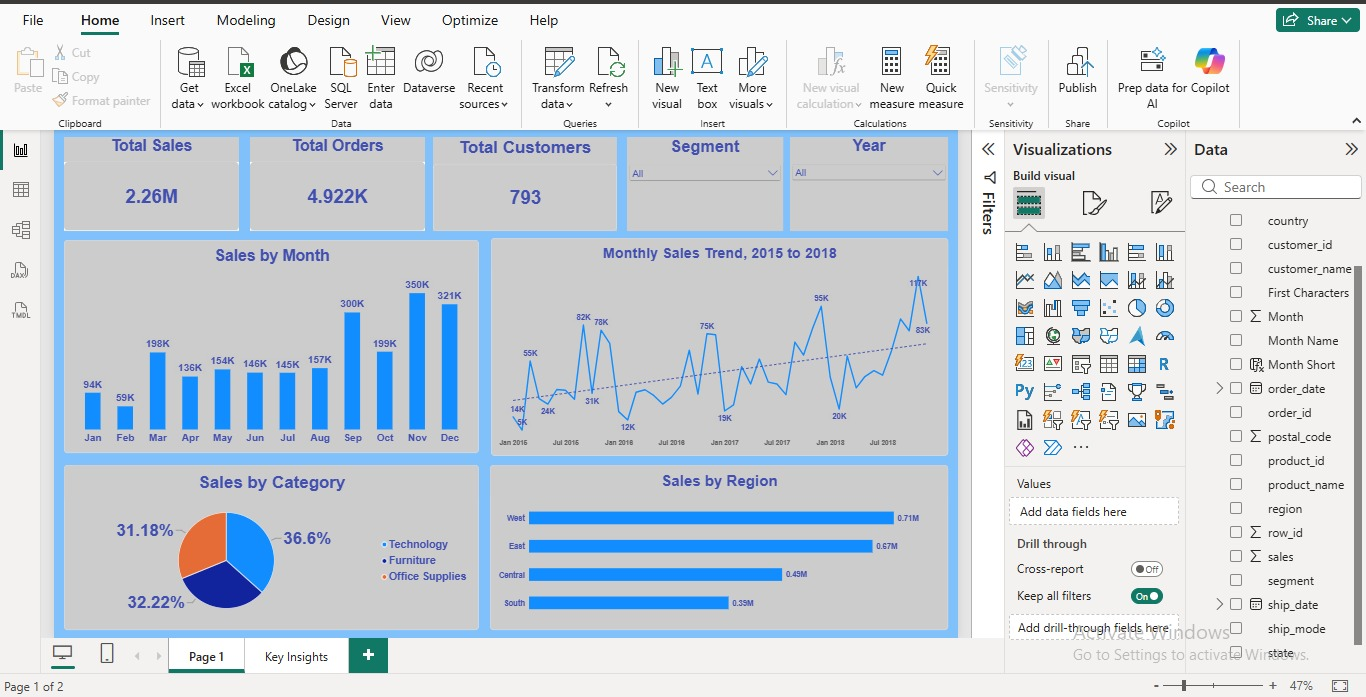

Layout of this report page (visuals, bound fields, positions):
{"tool":"powerbi","page":{"name":"Page 1","canvas":[1920,1080],"ordinal":0},"visuals":[{"type":"cardVisual","title":"Total Sales","fields":{"Data":["Sum(Superstore_clean.sales)"]},"box":[21.3,14.9,372,199.8],"z":0},{"type":"cardVisual","title":"Total Orders","fields":{"Data":["Count(Superstore_clean.order_id)"]},"box":[416.7,14.9,372,199.8],"z":1},{"type":"cardVisual","title":"Total Customers","fields":{"Data":["Count(Superstore_clean.customer_id)"]},"box":[805.7,14.9,391.2,199.8],"z":2},{"type":"clusteredColumnChart","title":"Sales by Month","fields":{"Category":["Superstore_clean.First Characters"],"Y":["Sum(Superstore_clean.sales)"]},"box":[21.3,233.9,882.3,452.8],"z":3},{"type":"lineChart","title":"Monthly Sales Trend, 2015 to 2018","fields":{"Category":["Superstore_clean.order_date.Variation.Date Hierarchy.Year","Superstore_clean.order_date.Variation.Date Hierarchy.Month"],"Y":["Sum(Superstore_clean.sales)"]},"box":[929.1,229.6,971.6,463.5],"z":4},{"type":"pieChart","title":"Sales by Category","fields":{"Category":["Superstore_clean.category"],"Y":["Sum(Superstore_clean.sales)"]},"box":[21.3,712.2,882.3,350.8],"z":5},{"type":"barChart","title":"Sales by Region","fields":{"Category":["Superstore_clean.region"],"Y":["Sum(Superstore_clean.sales)"]},"box":[926.9,712.2,973.7,350.8],"z":6},{"type":"slicer","title":"Year","fields":{"Values":["Superstore_clean.order_date.Variation.Date Hierarchy.Year"]},"box":[1564.7,14.9,335.9,199.8],"z":8},{"type":"slicer","title":"Segment","fields":{"Values":["Superstore_clean.segment"]},"box":[1218.2,14.9,331.7,199.8],"z":9}]}

Visuals, with their boxes on the page's 1920x1080 design canvas (x1, y1, x2, y2). These are canvas units, not pixel positions in the 1366x697 screenshot, which may show the page scaled, cropped or inside an application window:
"Total Sales" cardVisual: {"left": 21, "top": 15, "right": 393, "bottom": 215}
"Total Orders" cardVisual: {"left": 417, "top": 15, "right": 789, "bottom": 215}
"Total Customers" cardVisual: {"left": 806, "top": 15, "right": 1197, "bottom": 215}
"Sales by Month" clusteredColumnChart: {"left": 21, "top": 234, "right": 904, "bottom": 687}
"Monthly Sales Trend, 2015 to 2018" lineChart: {"left": 929, "top": 230, "right": 1901, "bottom": 693}
"Sales by Category" pieChart: {"left": 21, "top": 712, "right": 904, "bottom": 1063}
"Sales by Region" barChart: {"left": 927, "top": 712, "right": 1901, "bottom": 1063}
"Year" slicer: {"left": 1565, "top": 15, "right": 1901, "bottom": 215}
"Segment" slicer: {"left": 1218, "top": 15, "right": 1550, "bottom": 215}
